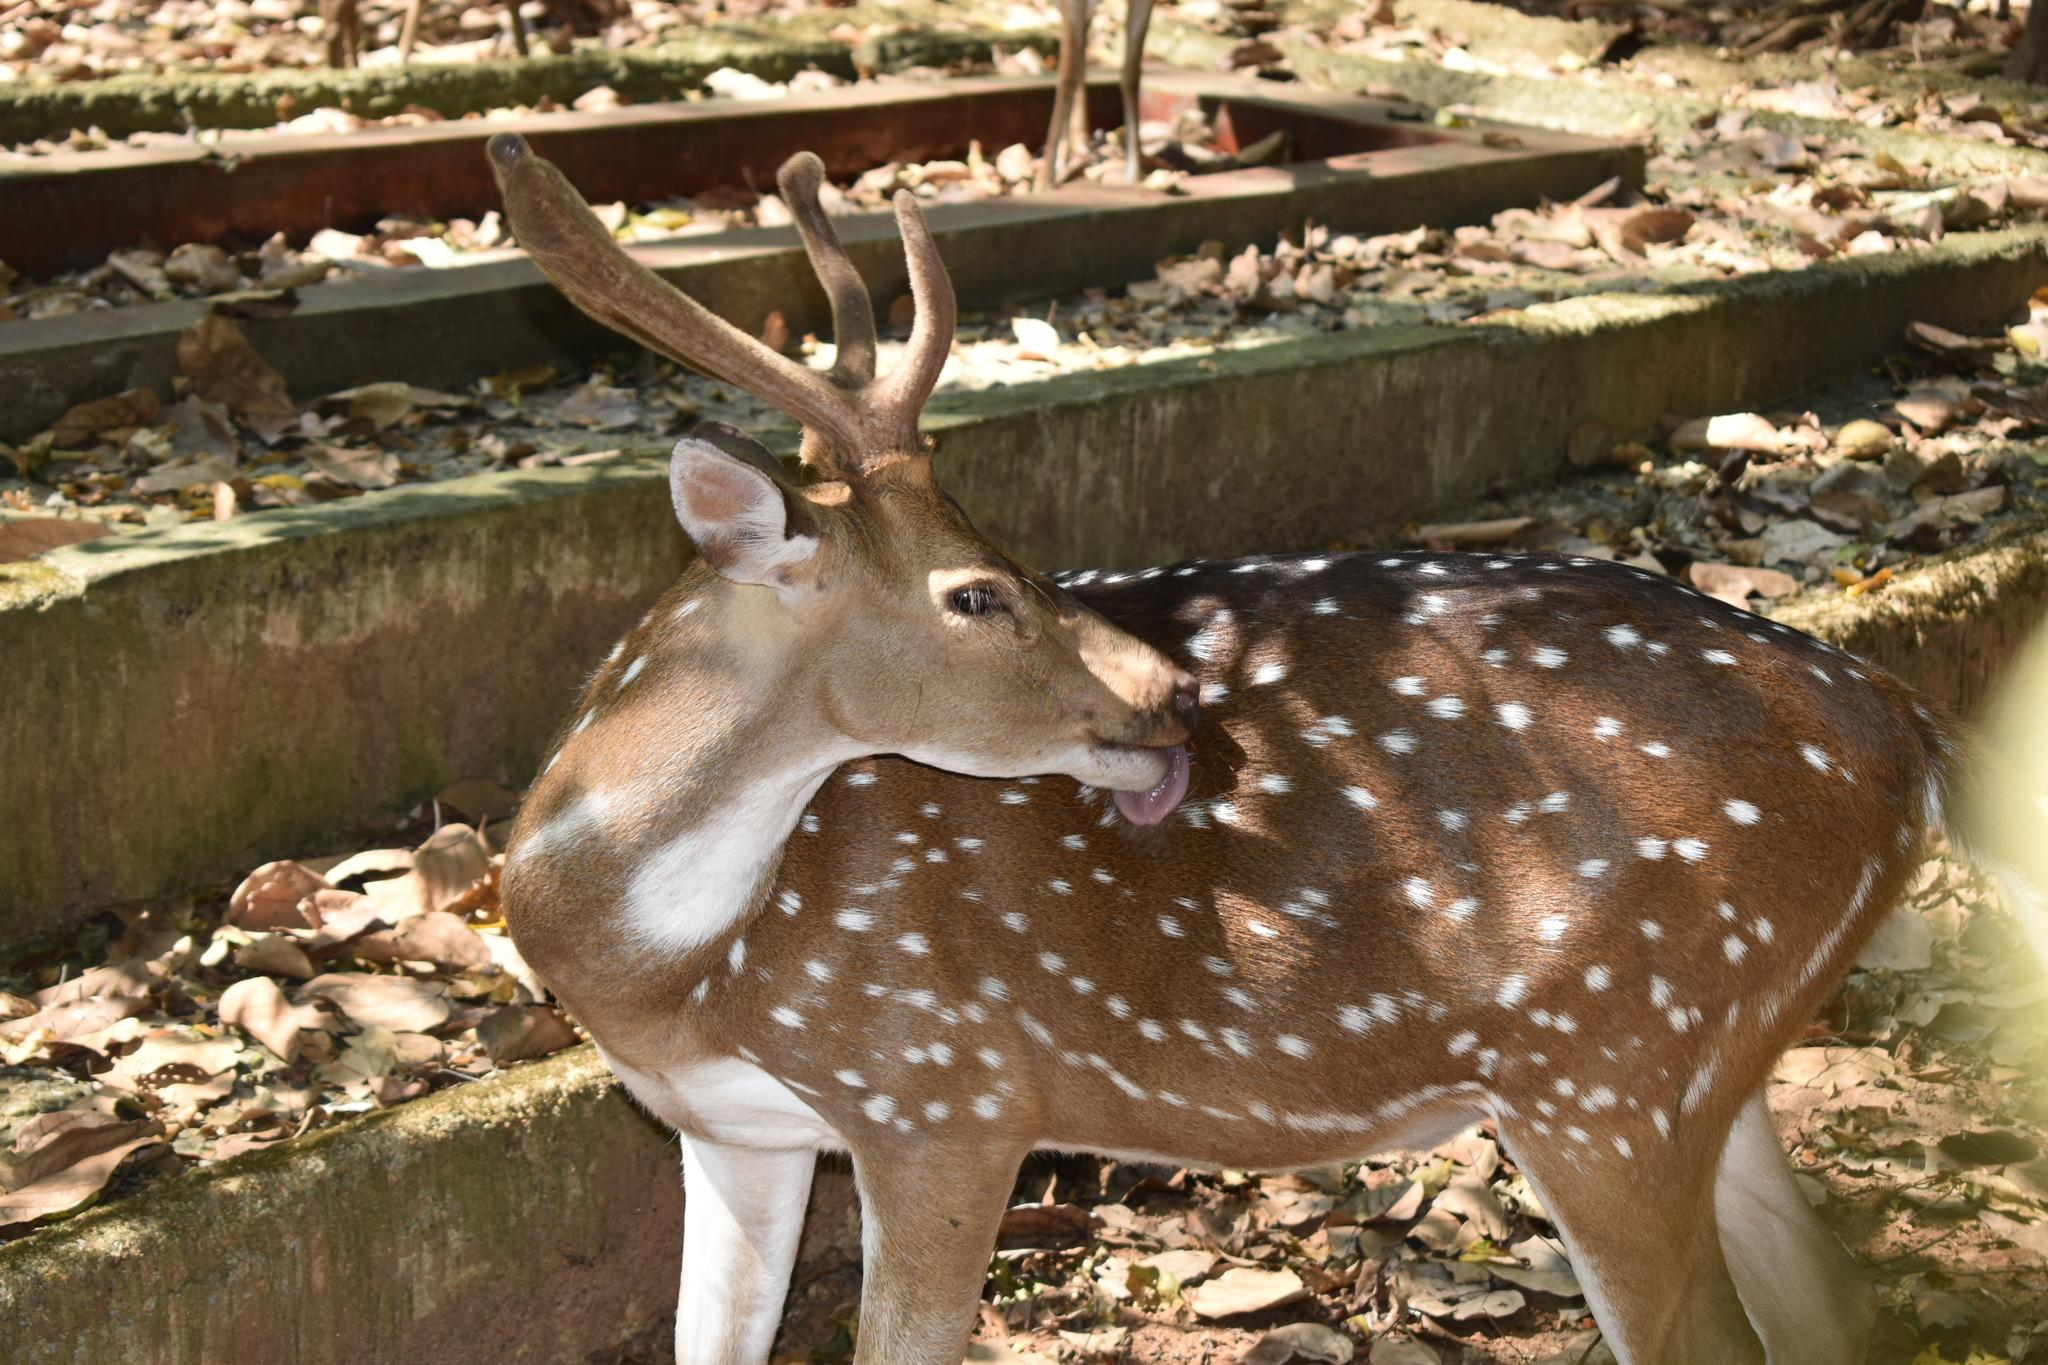Deer: (487, 136, 1949, 1363)
